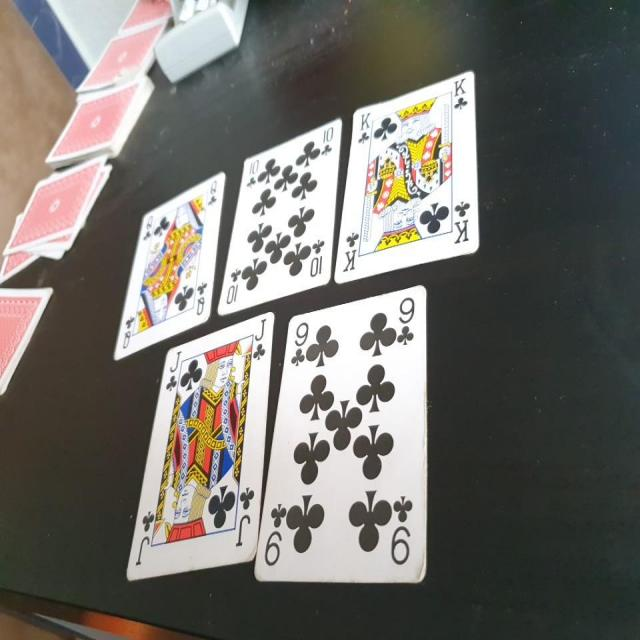10 Trefoils: (218, 115, 343, 316)
9 Trefoils: (252, 283, 429, 585)
J Trefoils: (125, 311, 276, 582)
K Trefoils: (334, 69, 481, 287)
Q Trefoils: (108, 170, 225, 365)
